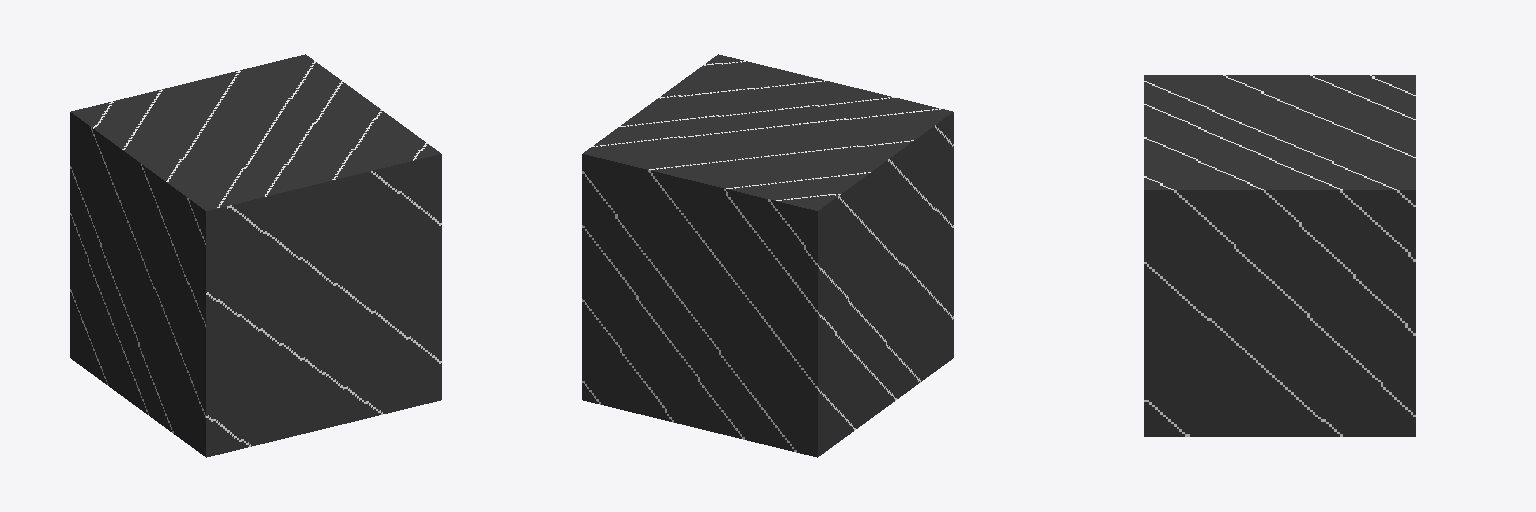
The picture shows the model from 3 angles: view 1: azimuth 30°, elevation 25°; view 2: azimuth 150°, elevation 25°; view 3: azimuth 270°, elevation 25°; orthographic projection.
Parts seen in each view (by area): view 1: Cube; view 2: Cube; view 3: Cube.
Part boxes in pixels (x1,y1,x2,y2): Cube: (70,54,441,457); Cube: (582,54,953,457); Cube: (1144,75,1415,436).
Bounding box in the file's own units: 2 × 2 × 2.
Materials: 1 (1 with a texture image).